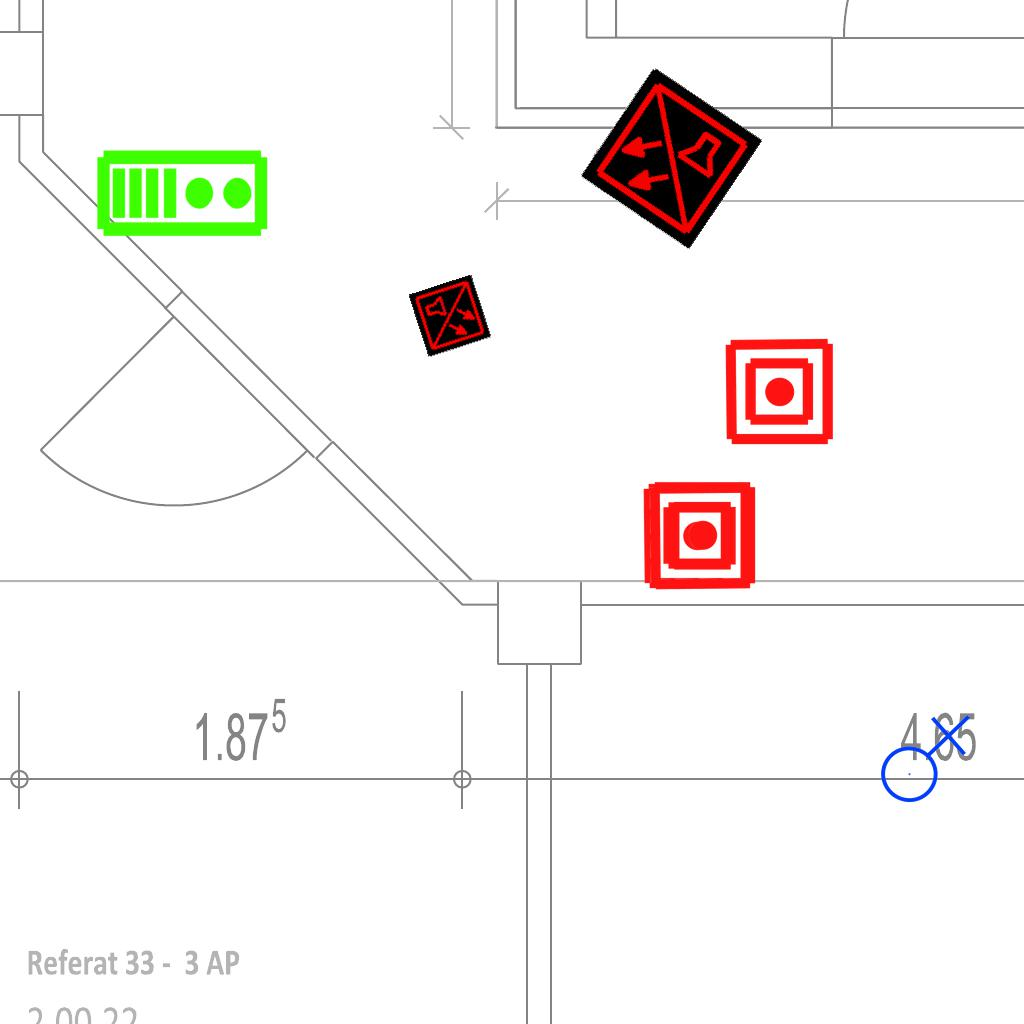Elektroanschluss_allgemein_230V_Geraeteanschlussdose_230V: (872, 710, 971, 804)
Gegensprechanlage_mit_Video: (95, 144, 271, 239)
NAM-Nichtautomatischer_Melder: (641, 479, 754, 592), (723, 335, 836, 448), (646, 479, 759, 592)
OKW_Multisensormelder_(Kombination_optischer_Rauch-Kahlenmonoxid_Waerme-Melder): (579, 66, 763, 250), (408, 274, 492, 358)
